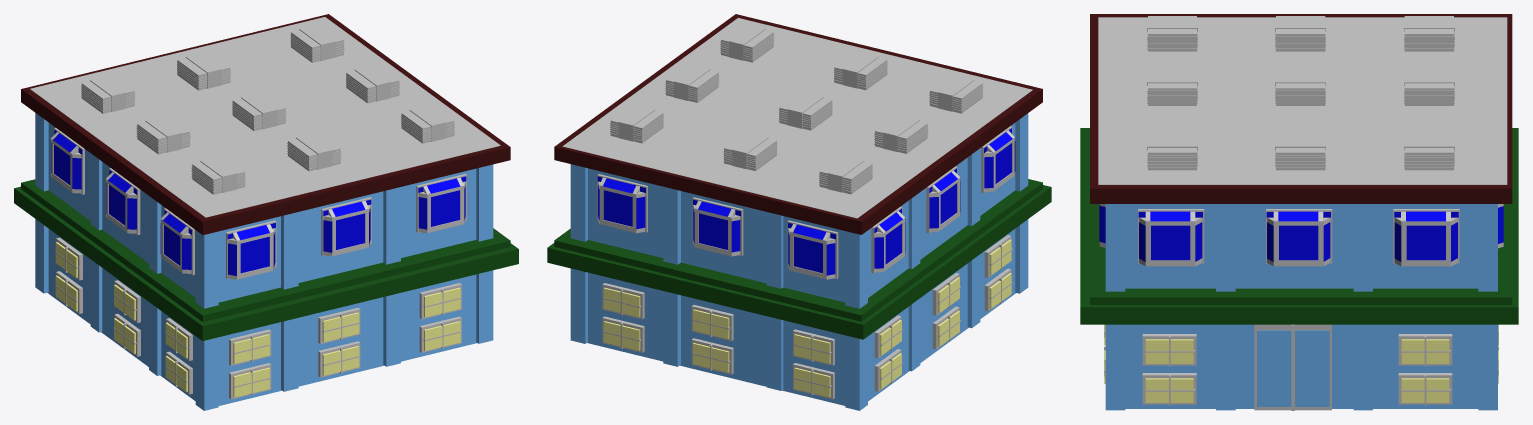
File: Morioh.obj
3 views of the same model, side by side, from view 1: azimuth 30°, elevation 25°; view 2: azimuth 150°, elevation 25°; view 3: azimuth 270°, elevation 25° (orthographic). The views are drawn at different scales.
Visible parts, largest first — view 1: Part10, Part148, Part83, Part100, Part9, Part144, Part151, Part150, Part240, Part147, Part146, Part149 (+36 smaller); view 2: Part10, Part148, Part83, Part100, Part9, Part147, Part151, Part145, Part150, Part144, Part149, Part146 (+36 smaller); view 3: Part10, Part148, Part83, Part100, Part9, Part143, Part240, Part145, Part149, Part146, Part228, Part236 (+34 smaller).
Part boxes in pixels (x1=…): Part10: x1=30, y1=17, x2=500, y2=217; Part148: x1=47, y1=123, x2=476, y2=405; Part83: x1=21, y1=14, x2=510, y2=234; Part100: x1=14, y1=186, x2=518, y2=340; Part9: x1=21, y1=179, x2=510, y2=321; Part144: x1=195, y1=230, x2=218, y2=410; Part151: x1=383, y1=187, x2=400, y2=366; Part150: x1=281, y1=212, x2=298, y2=391; Part240: x1=476, y1=164, x2=493, y2=343; Part147: x1=35, y1=113, x2=48, y2=293; Part146: x1=90, y1=153, x2=102, y2=332; Part149: x1=149, y1=196, x2=161, y2=375; Part10: x1=562, y1=18, x2=1032, y2=218; Part148: x1=587, y1=123, x2=1015, y2=405; Part83: x1=554, y1=14, x2=1042, y2=234; Part100: x1=547, y1=185, x2=1051, y2=339; Part9: x1=554, y1=179, x2=1042, y2=321; Part147: x1=845, y1=230, x2=867, y2=410; Part151: x1=663, y1=186, x2=680, y2=366; Part145: x1=570, y1=164, x2=587, y2=343; Part150: x1=766, y1=212, x2=783, y2=390; Part144: x1=1015, y1=113, x2=1028, y2=293; Part149: x1=967, y1=148, x2=980, y2=328; Part146: x1=908, y1=192, x2=920, y2=371; Part10: x1=1098, y1=17, x2=1507, y2=184; Part148: x1=1125, y1=204, x2=1478, y2=408; Part83: x1=1090, y1=14, x2=1512, y2=203; Part100: x1=1080, y1=128, x2=1518, y2=324; Part9: x1=1090, y1=204, x2=1512, y2=304; Part143: x1=1257, y1=330, x2=1329, y2=406; Part240: x1=1105, y1=204, x2=1125, y2=410; Part145: x1=1478, y1=204, x2=1497, y2=410; Part149: x1=1216, y1=204, x2=1235, y2=410; Part146: x1=1353, y1=204, x2=1372, y2=410; Part228: x1=1406, y1=225, x2=1445, y2=260; Part236: x1=1279, y1=225, x2=1318, y2=260.
Bounding box in the file's own units: 53.62 × 34.61 × 55.36.
